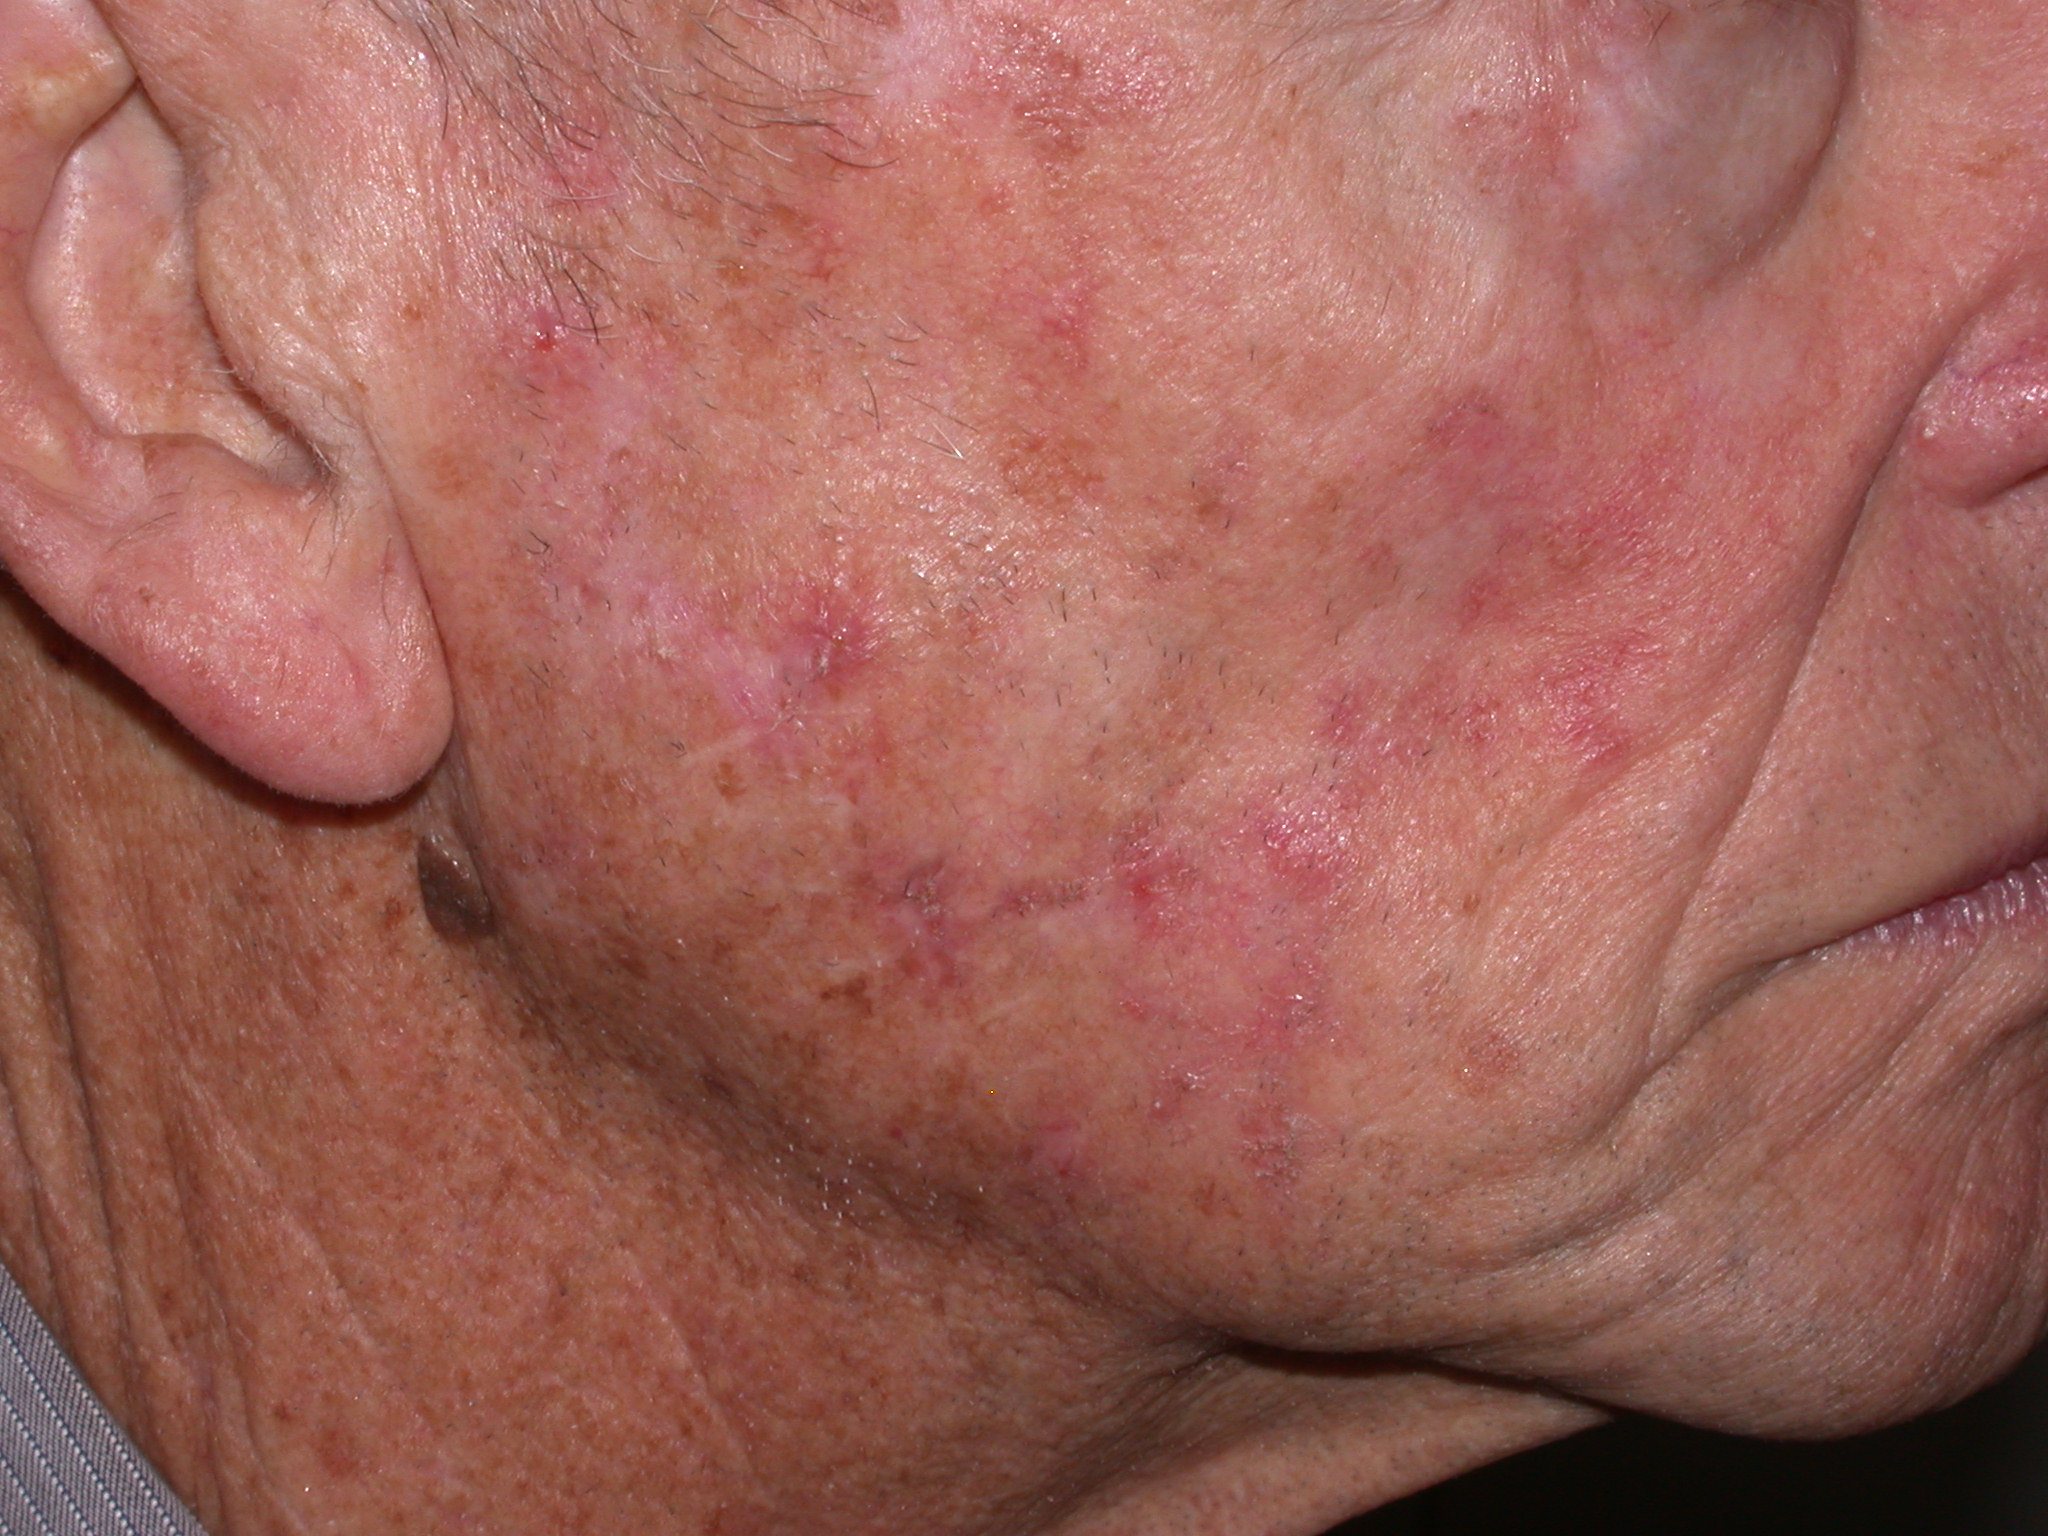Actinic Keratosis: (425, 112, 1776, 1316)
